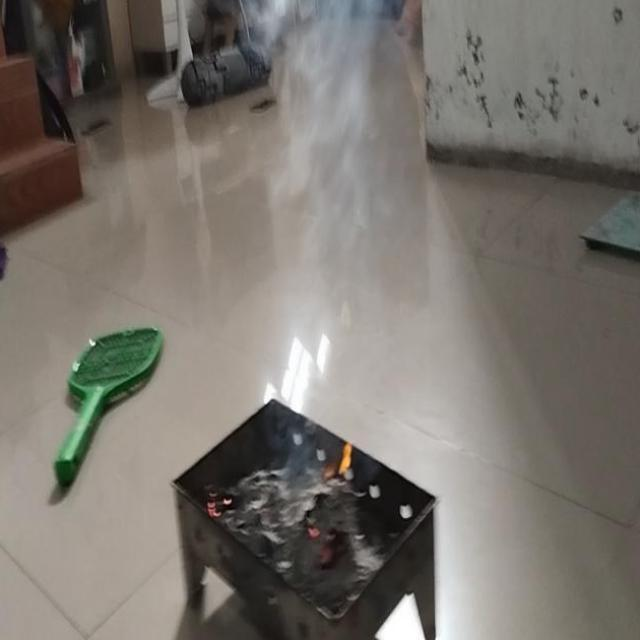fire: (262, 0, 383, 246)
